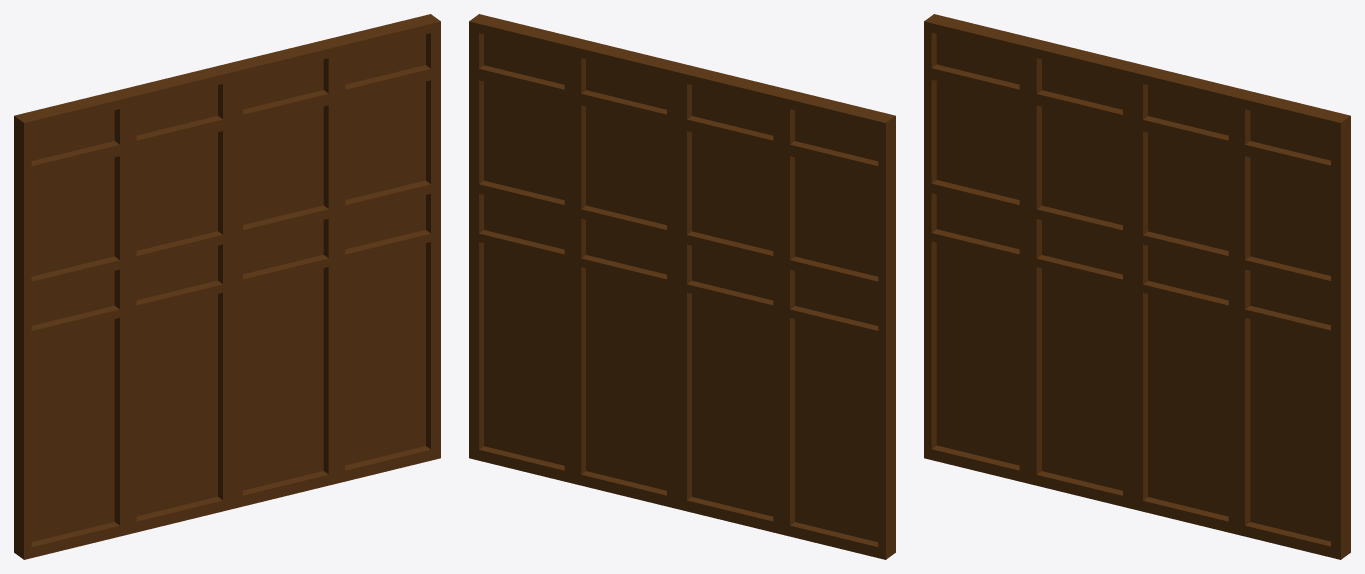
File: HouseDoorNewNewPivot.fbx
3 views of the same model, side by side, from view 1: azimuth 30°, elevation 25°; view 2: azimuth 150°, elevation 25°; view 3: azimuth 330°, elevation 25° (orthographic).
Parts seen in each view (by area): view 1: Cube.028, Cube.027, Cube.029, Cube.030; view 2: Cube.028, Cube.027, Cube.029, Cube.030; view 3: Cube.027, Cube.030, Cube.028, Cube.029.
Boxes of the visible parts, x1,y1,x2,y2 form: Cube.028: [14, 90, 128, 559]; Cube.027: [327, 14, 440, 483]; Cube.029: [118, 65, 232, 534]; Cube.030: [223, 39, 336, 508]; Cube.028: [781, 90, 895, 559]; Cube.027: [469, 14, 582, 483]; Cube.029: [677, 65, 791, 534]; Cube.030: [573, 39, 686, 508]; Cube.027: [1236, 90, 1350, 559]; Cube.030: [1132, 65, 1246, 534]; Cube.028: [924, 14, 1037, 483]; Cube.029: [1028, 39, 1141, 508].
Bounding box in the file's own units: 8.51 × 203 × 203.
